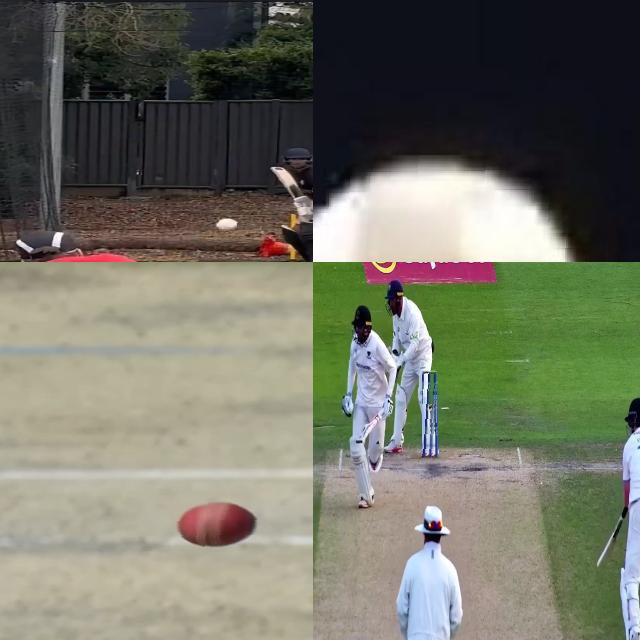Cricket ball: (313, 155, 613, 262), (174, 498, 265, 552), (214, 215, 241, 233)
Stumps: (422, 366, 438, 458)
